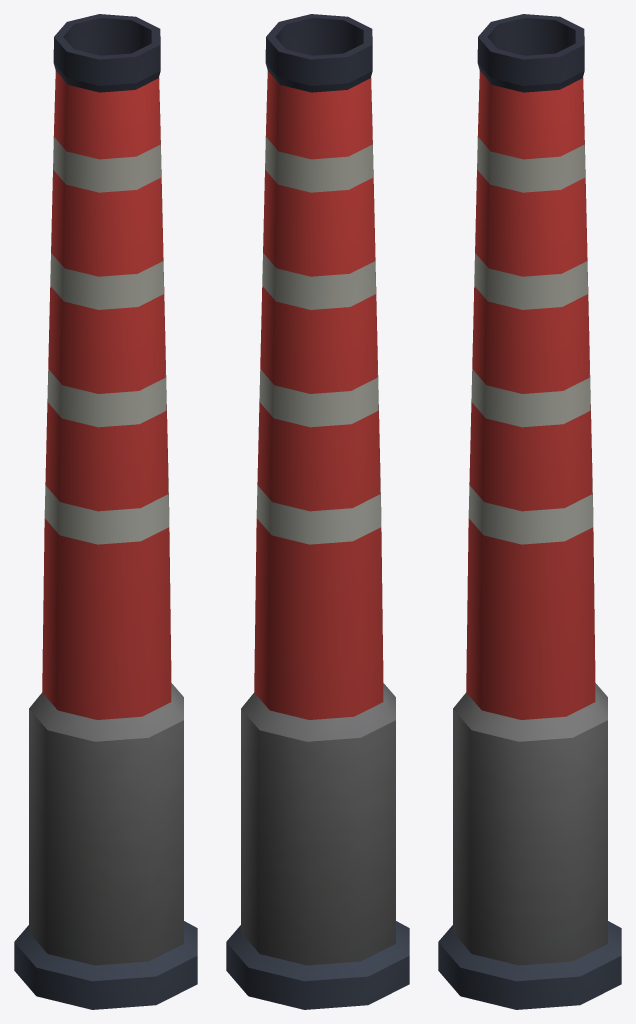
The model's file is ChimneyPowerPlant_3_A.glb.
3 views of the same model, side by side, from view 1: azimuth 30°, elevation 25°; view 2: azimuth 150°, elevation 25°; view 3: azimuth 270°, elevation 25° (orthographic).
Visible parts, largest first — view 1: ChimneyPowerPlant_3_A; view 2: ChimneyPowerPlant_3_A; view 3: ChimneyPowerPlant_3_A.
Part boxes in pixels (left/top/right/bottom): ChimneyPowerPlant_3_A: left=14, top=14, right=197, bottom=1009; ChimneyPowerPlant_3_A: left=226, top=14, right=409, bottom=1009; ChimneyPowerPlant_3_A: left=438, top=14, right=621, bottom=1009.
Size of the model in its own units: 5.34 by 29.52 by 5.26.
Materials: 1 (1 with a texture image).
